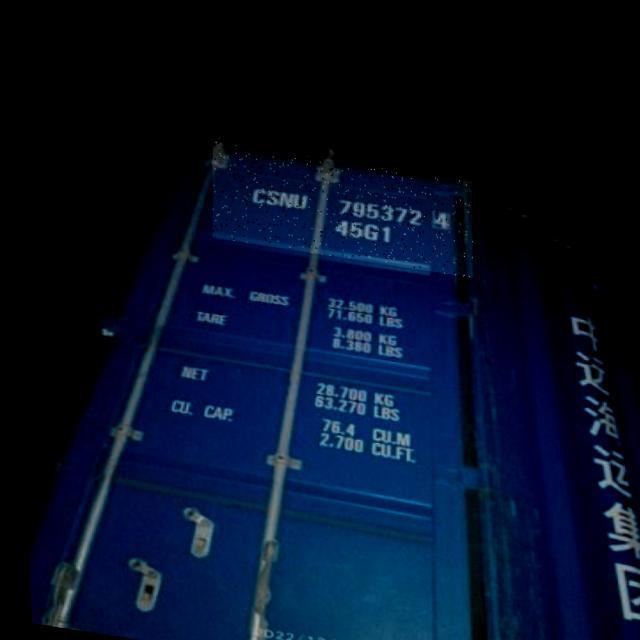container_number_h: (206, 136, 475, 269)
